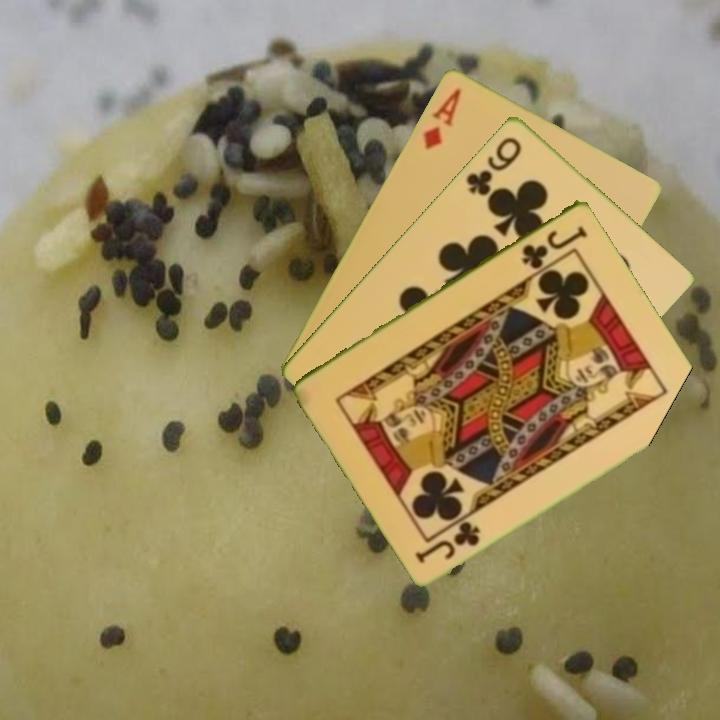9c: (462, 132, 524, 198)
Ad: (419, 84, 464, 153)
Jc: (518, 221, 590, 271), (412, 517, 484, 566)
